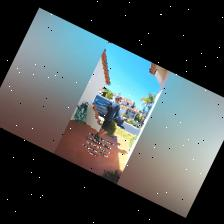person: (92, 96, 120, 140)
